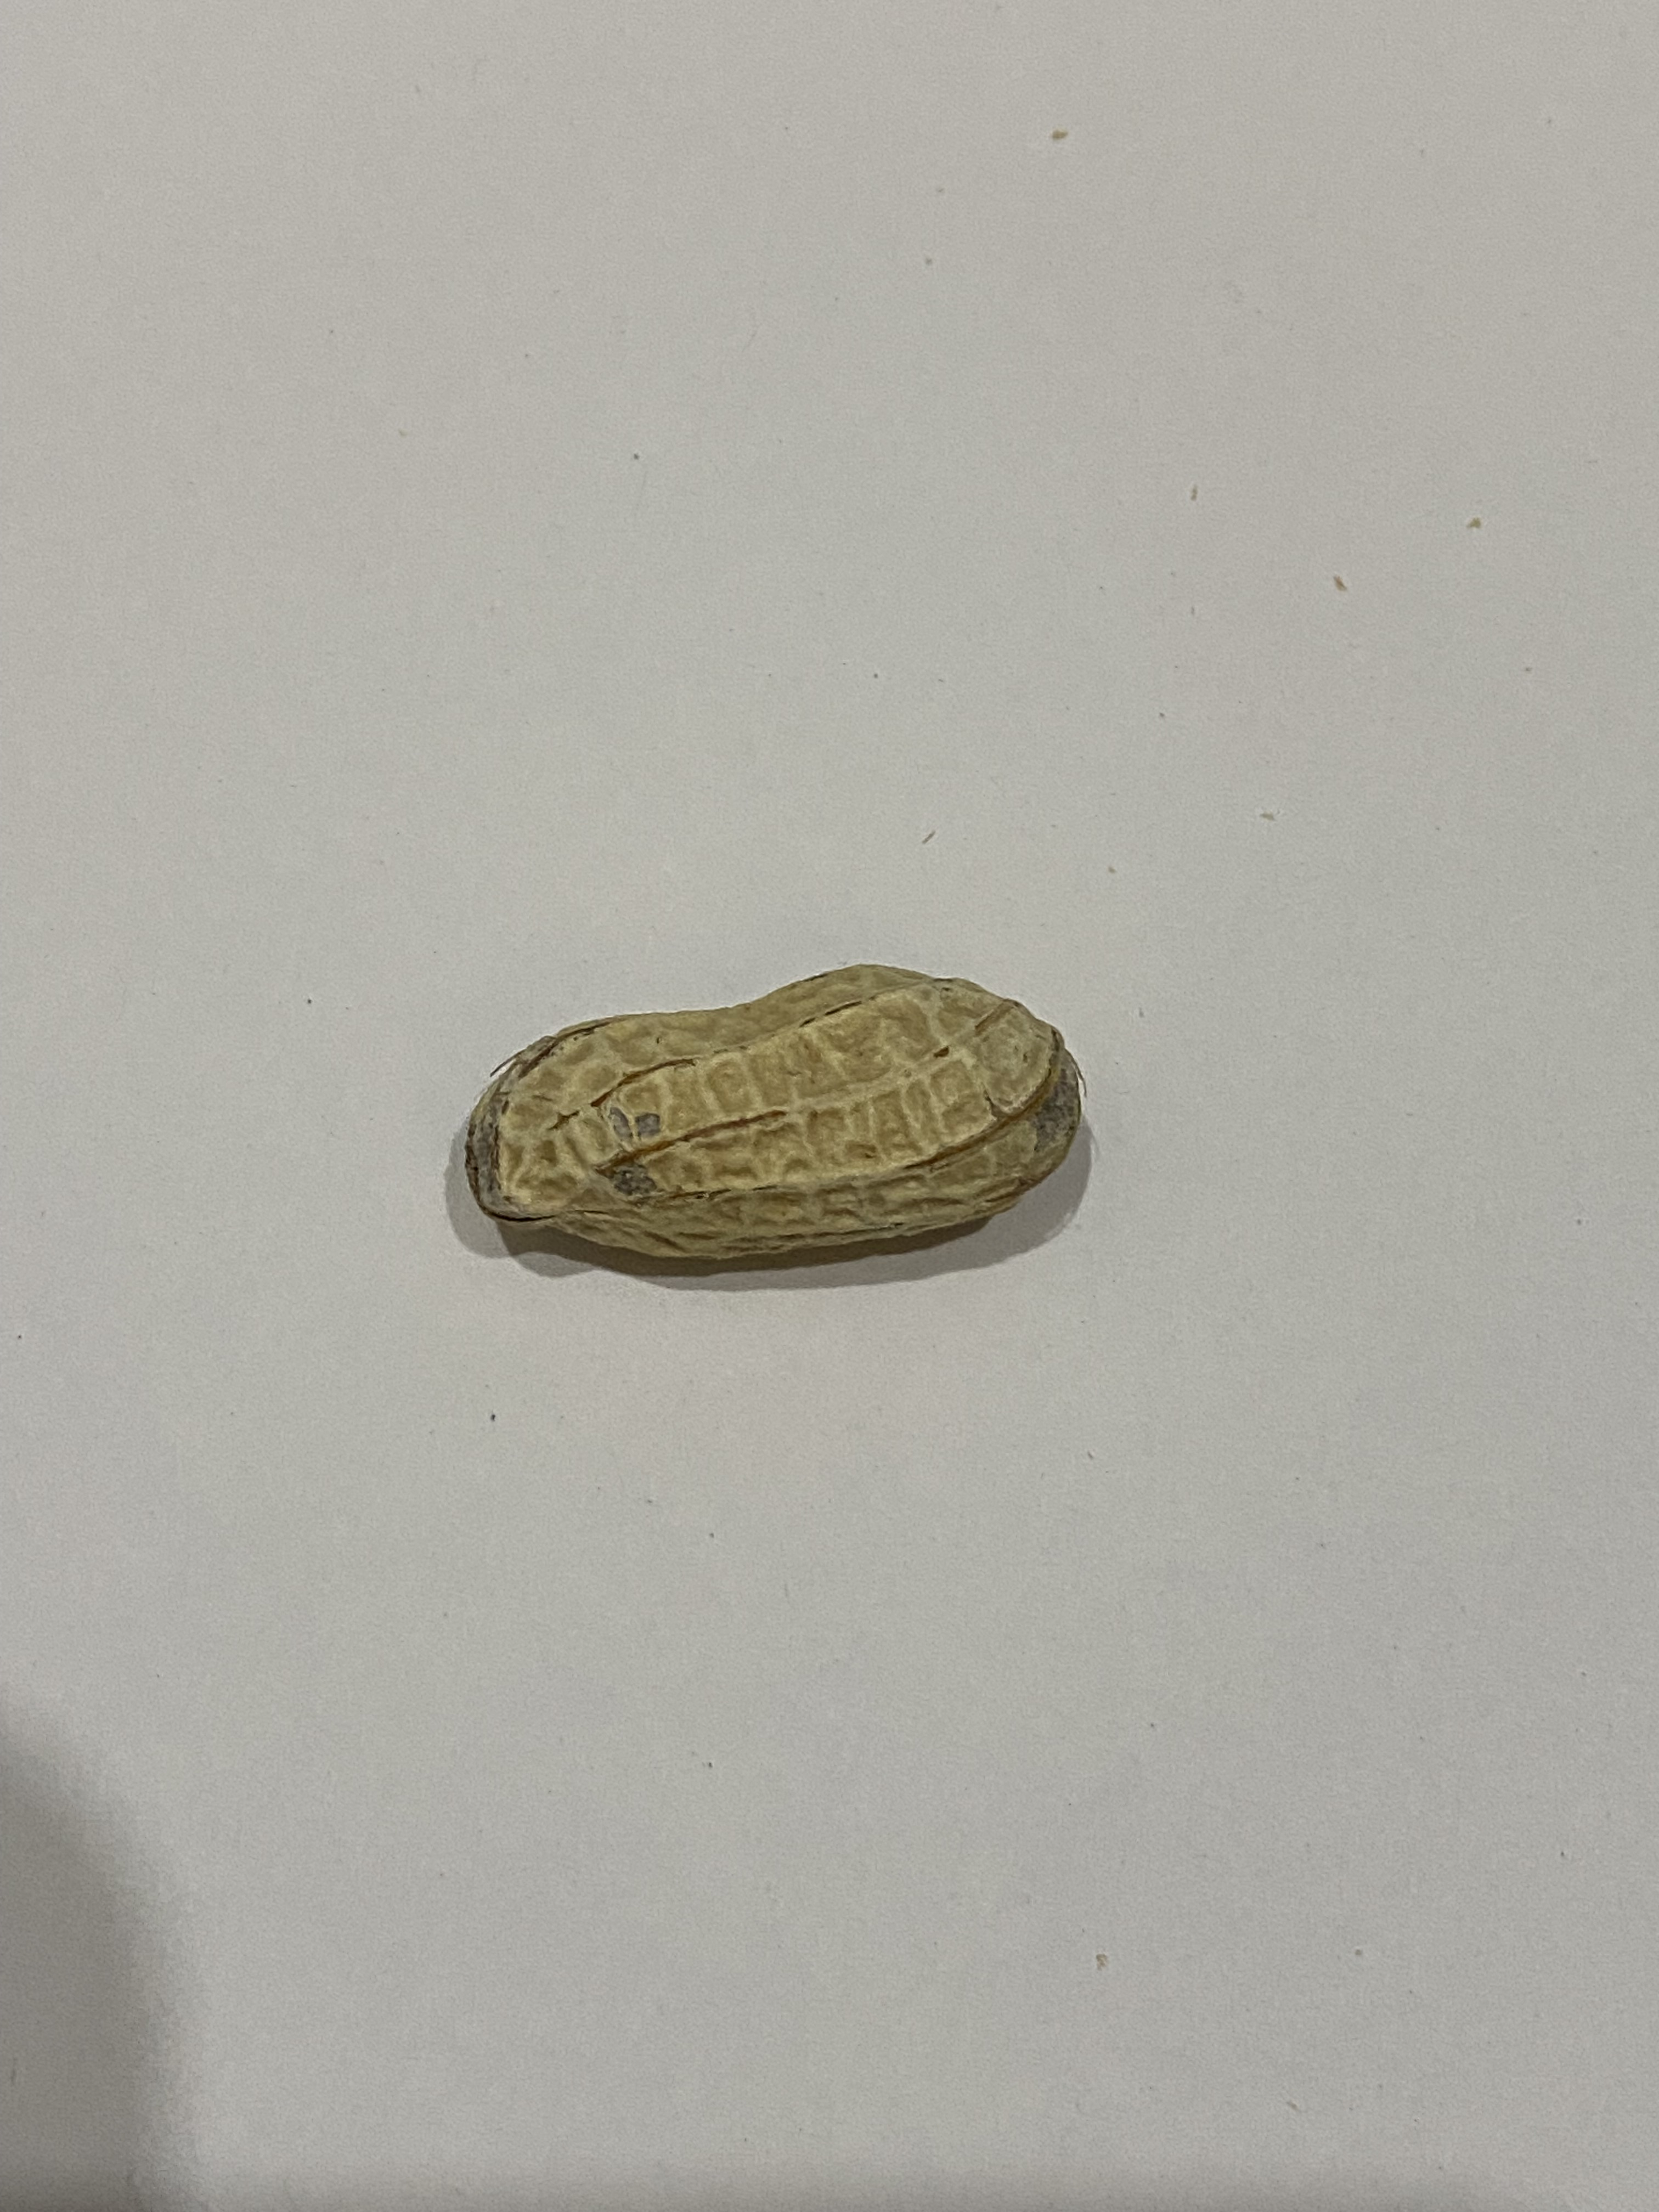kacang2: (450, 942, 1119, 1263)
